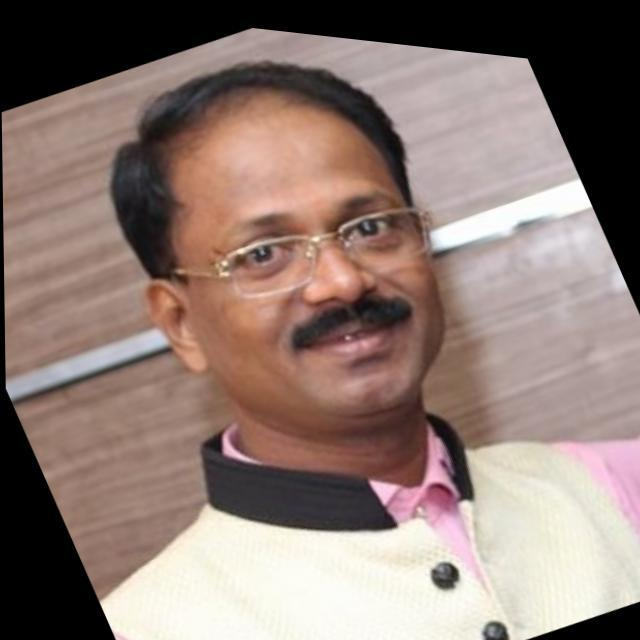Nonhelmet: (105, 56, 455, 434)
